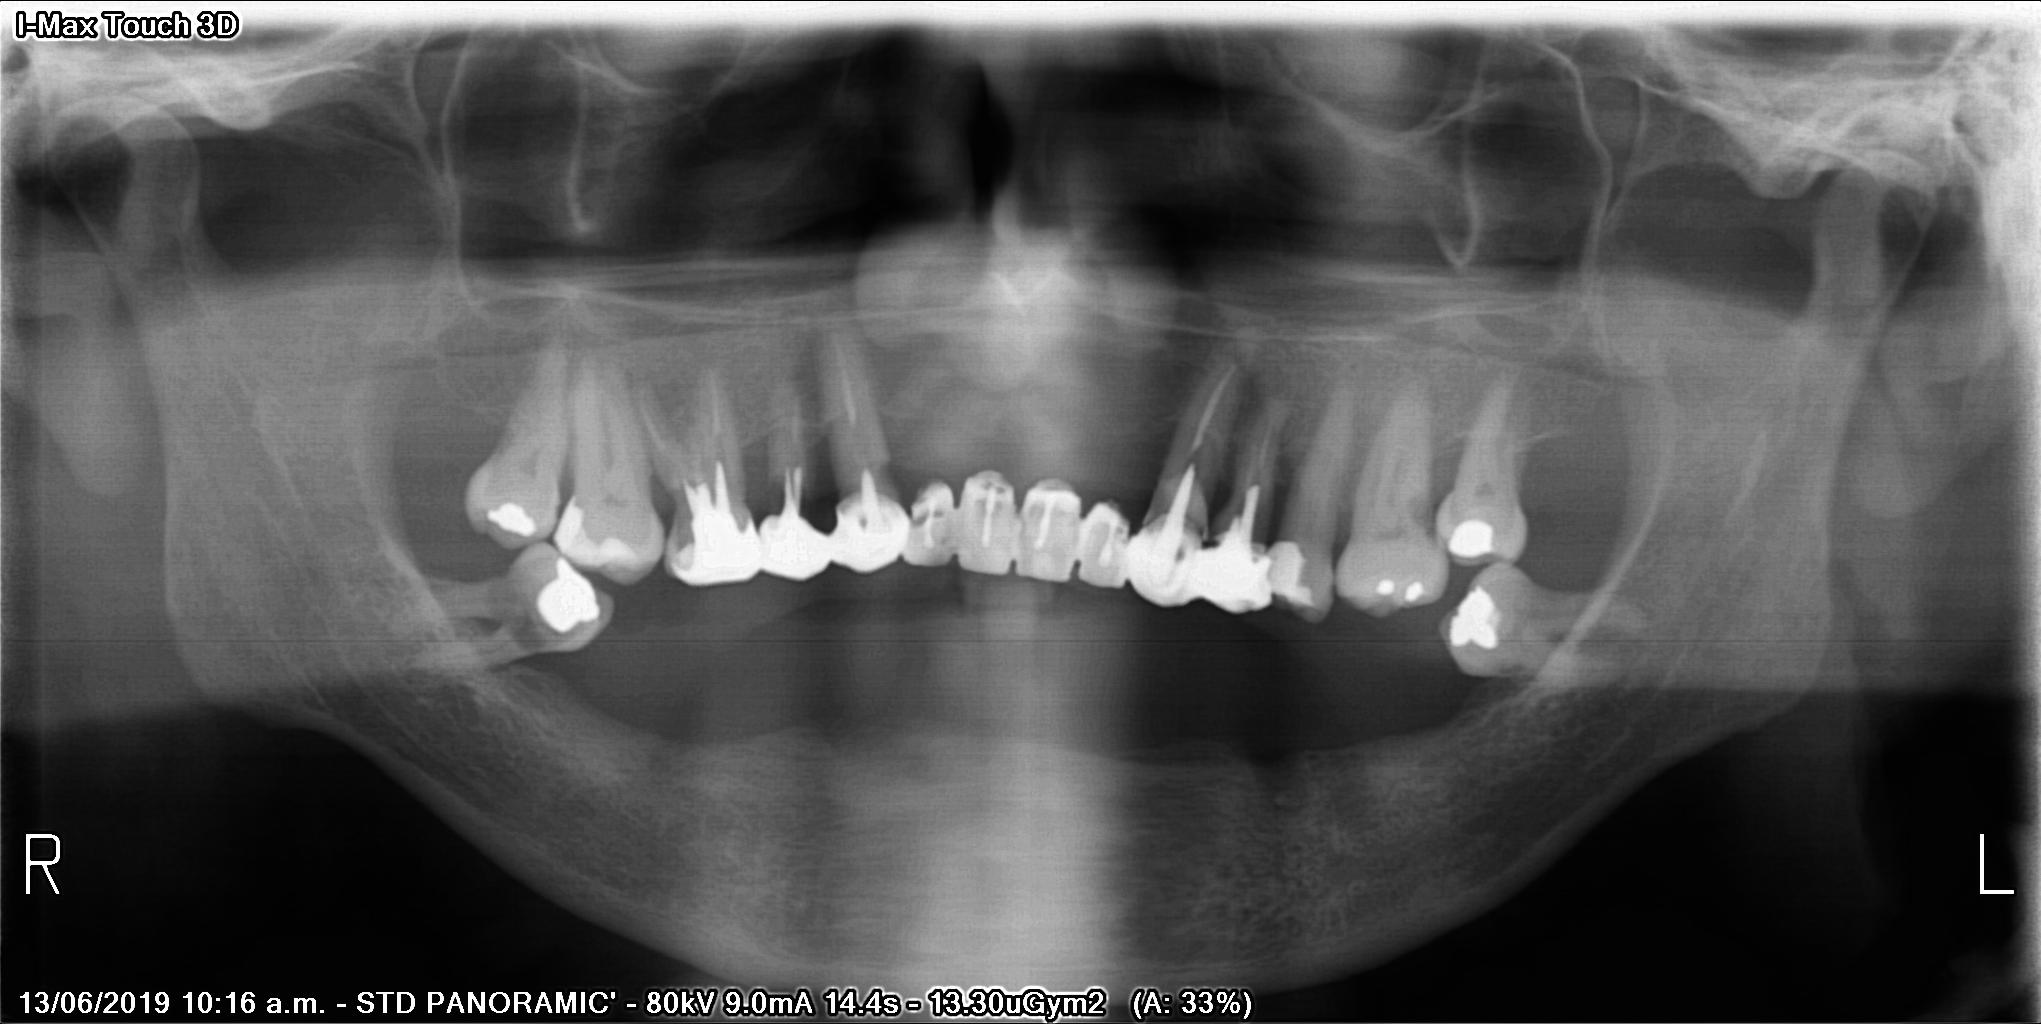Çürük: (667, 485, 760, 583), (824, 481, 906, 583), (1126, 522, 1214, 613), (1197, 519, 1268, 616), (531, 566, 612, 633), (759, 499, 827, 579), (1442, 588, 1517, 657), (546, 494, 620, 559), (1258, 513, 1302, 619), (475, 492, 546, 546), (1449, 516, 1503, 568), (1399, 569, 1429, 614), (1375, 577, 1404, 598)
Çürük Bölgesi: (499, 614, 575, 658)
